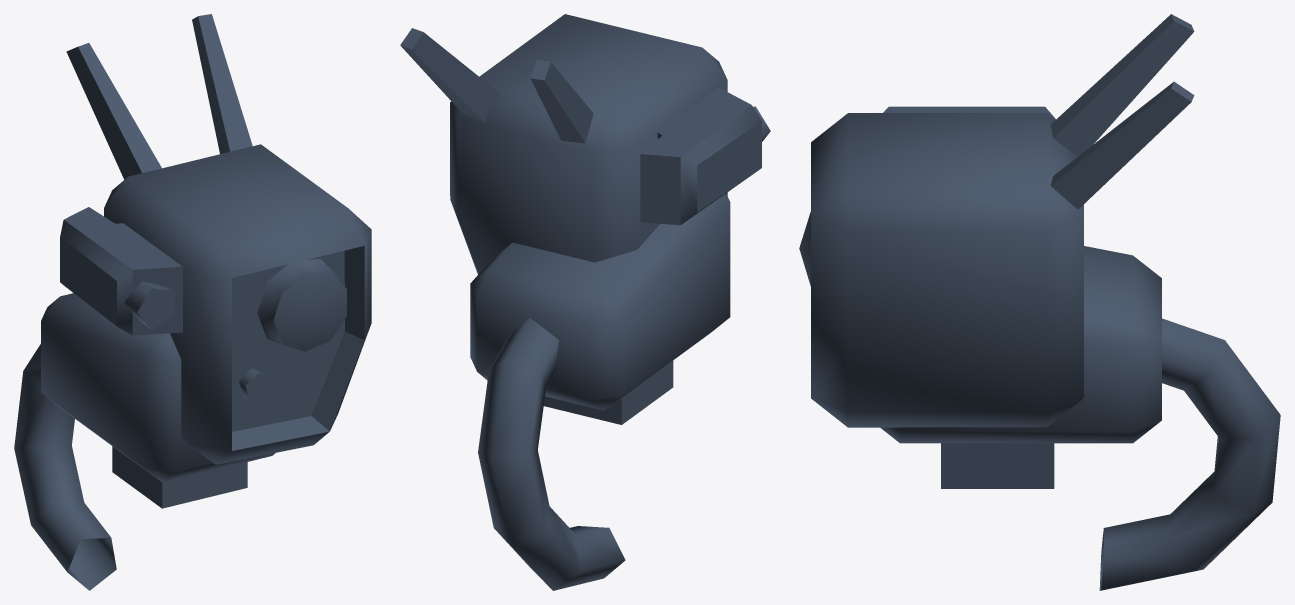
Rendered from acs17_part1_head1.fbx.
3 views of the same model, side by side, from view 1: azimuth 30°, elevation 25°; view 2: azimuth 150°, elevation 25°; view 3: azimuth 270°, elevation 25° (orthographic). The views are drawn at different scales.
Parts seen in each view (by area): view 1: ChamferBox005, ChamferBox004, Cylinder074, Box027, Cylinder091, Box025, Box098, Box024, Cylinder032, Cylinder076; view 2: ChamferBox005, ChamferBox004, Cylinder074, Box027, Box098, Box025, Box024; view 3: ChamferBox005, Cylinder074, ChamferBox004, Box025, Box098, Box024, Box027.
Part boxes in pixels (box(x1,y1,x2,y2)): ChamferBox005: box(104, 144, 371, 464); ChamferBox004: box(41, 293, 275, 482); Cylinder074: box(14, 344, 116, 590); Box027: box(60, 207, 182, 335); Cylinder091: box(257, 259, 346, 351); Box025: box(66, 43, 161, 179); Box098: box(192, 14, 252, 153); Box024: box(112, 446, 247, 508); Cylinder032: box(124, 281, 174, 329); Cylinder076: box(239, 368, 272, 401); ChamferBox005: box(450, 14, 727, 274); ChamferBox004: box(470, 193, 730, 410); Cylinder074: box(478, 318, 625, 590); Box027: box(640, 87, 761, 225); Box098: box(400, 28, 499, 121); Box025: box(530, 59, 593, 143); Box024: box(543, 360, 673, 424); ChamferBox005: box(811, 113, 1083, 427); Cylinder074: box(1099, 318, 1280, 590); ChamferBox004: box(880, 246, 1161, 443); Box025: box(1050, 14, 1194, 156); Box098: box(1050, 81, 1194, 209); Box024: box(941, 443, 1054, 488); Box027: box(883, 106, 1055, 119).
Bounding box in the file's own units: 65.18 × 137 × 102.
